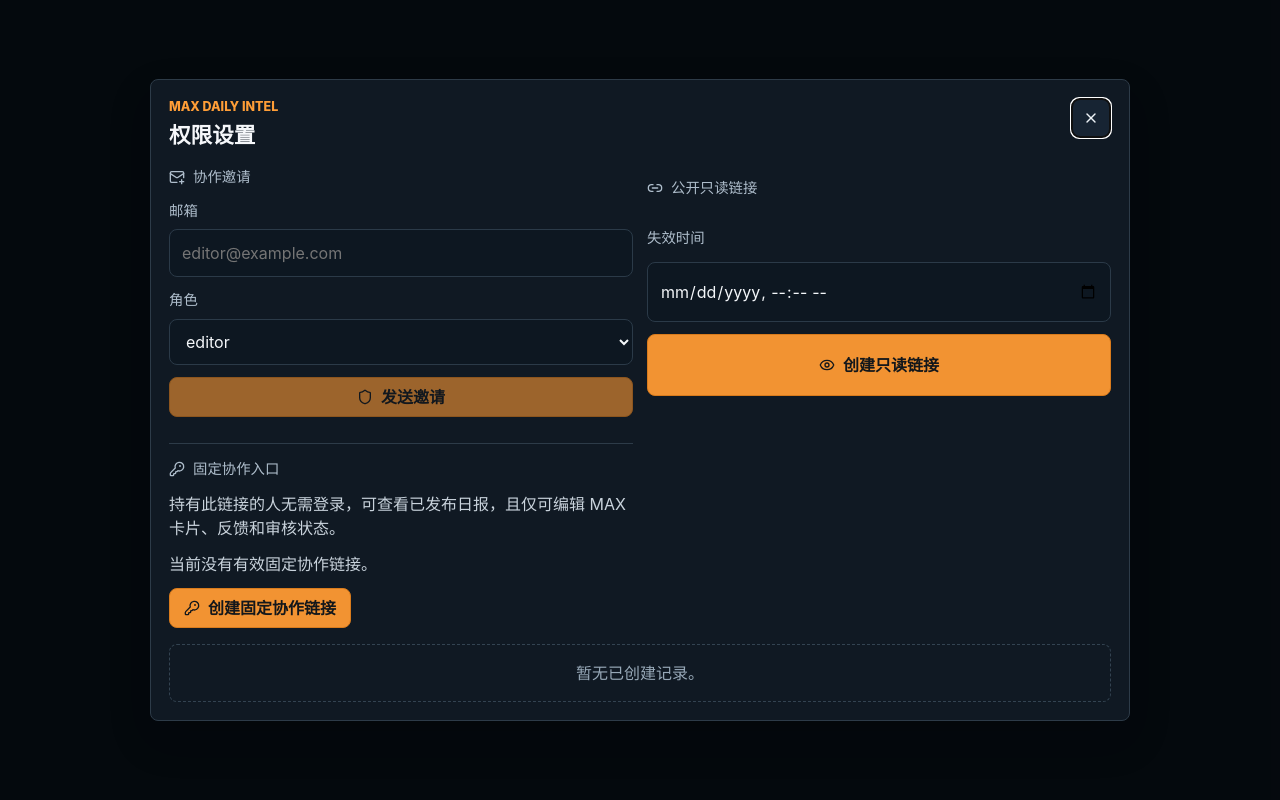
Test case: ShareDialog fixed collaboration link management › reconciles inactive status after a revoke returns not found
The image size is (1280, 800).
Click the button "创建固定协作链接": {"x": 260, "y": 608} x1=169 y1=588 x2=351 y2=628
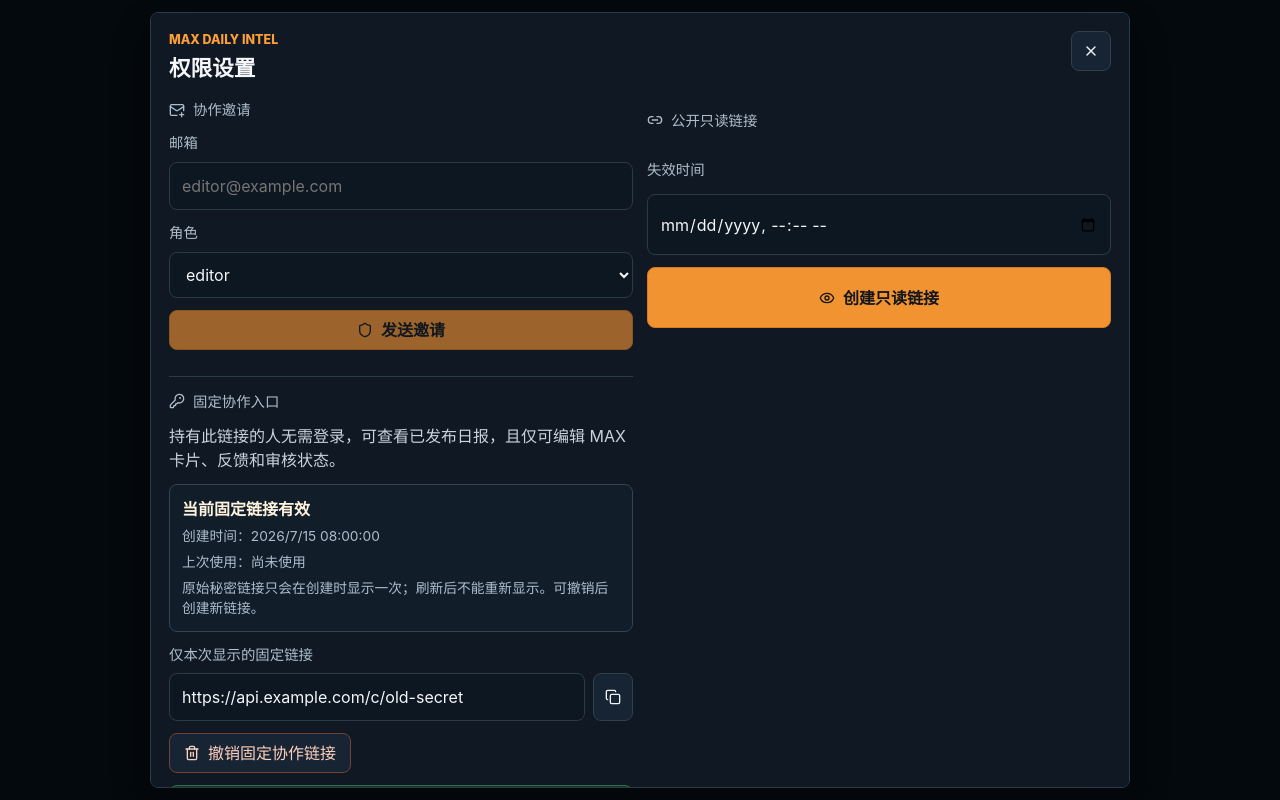
Expected: the field showing "https://api.example.com/c/old-secret" is shown, x1=169 y1=674 x2=585 y2=722
Click the button "撤销固定协作链接": {"x": 260, "y": 754} x1=169 y1=734 x2=351 y2=774
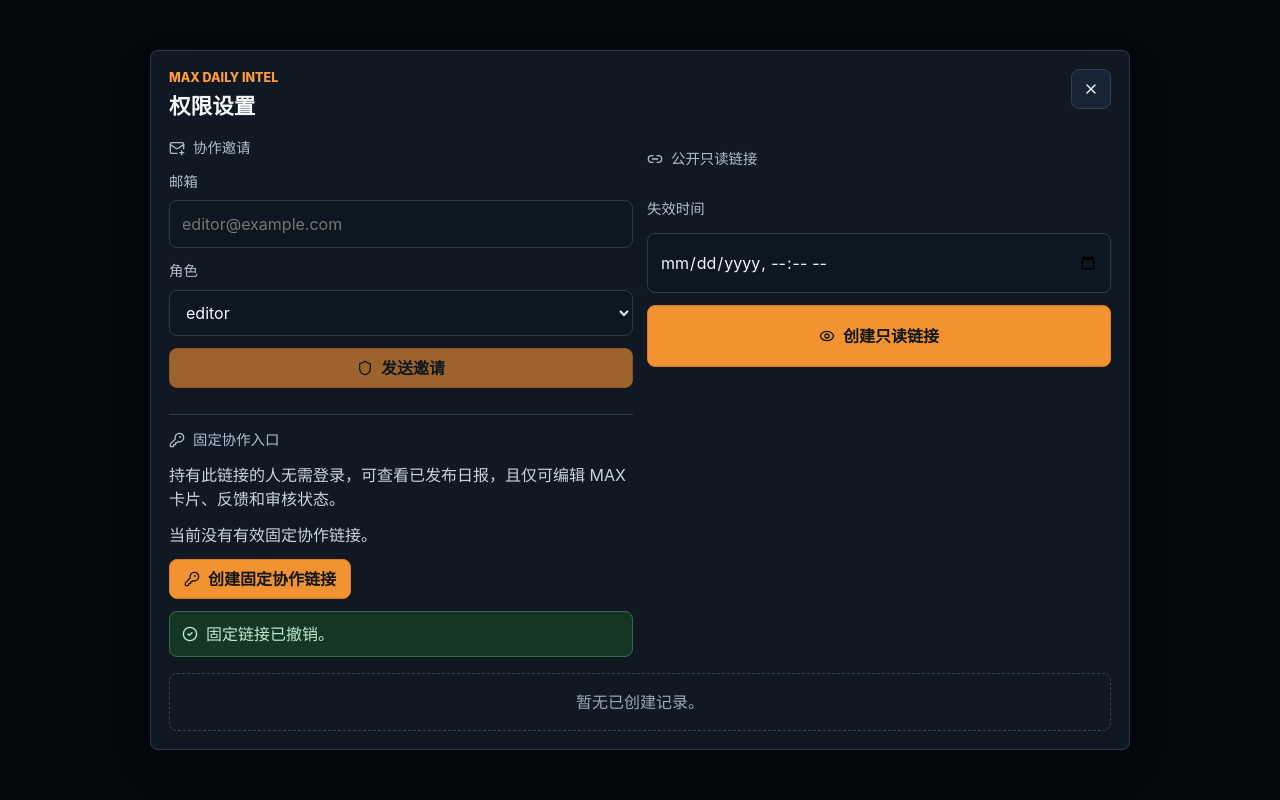
Expected: the field showing "https://api.example.com/c/old-secret" is not shown
Expected: the text "固定链接已撤销。" is shown, x1=169 y1=611 x2=633 y2=657
Expected: the text "当前没有有效固定协作链接。" is shown, x1=169 y1=525 x2=377 y2=545
